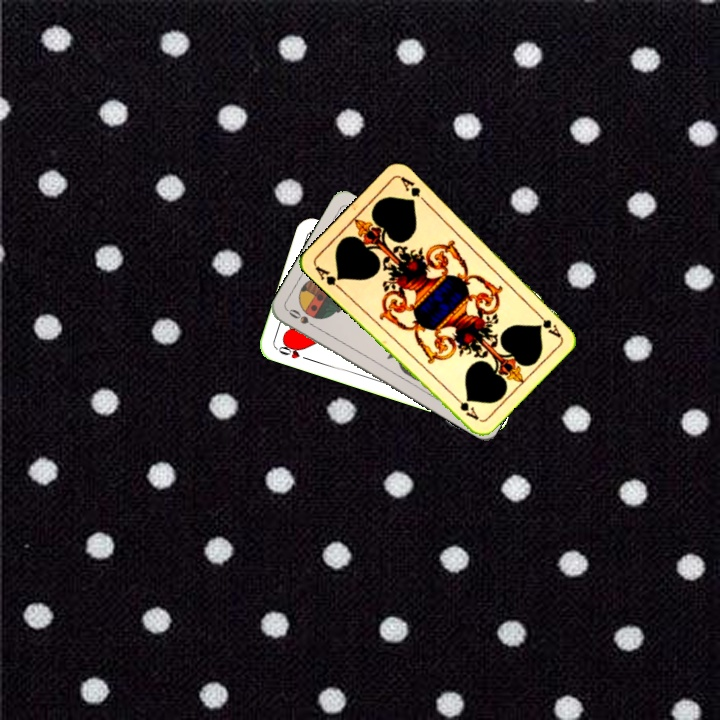GA: (531, 307, 564, 340), (311, 261, 345, 293)
HO: (273, 339, 312, 363)
SO: (284, 305, 321, 332)
